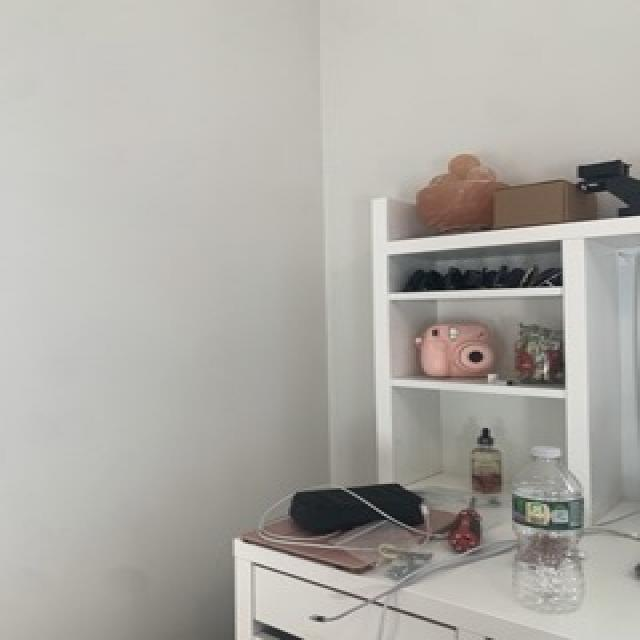water_bottle: (505, 443, 595, 619)
